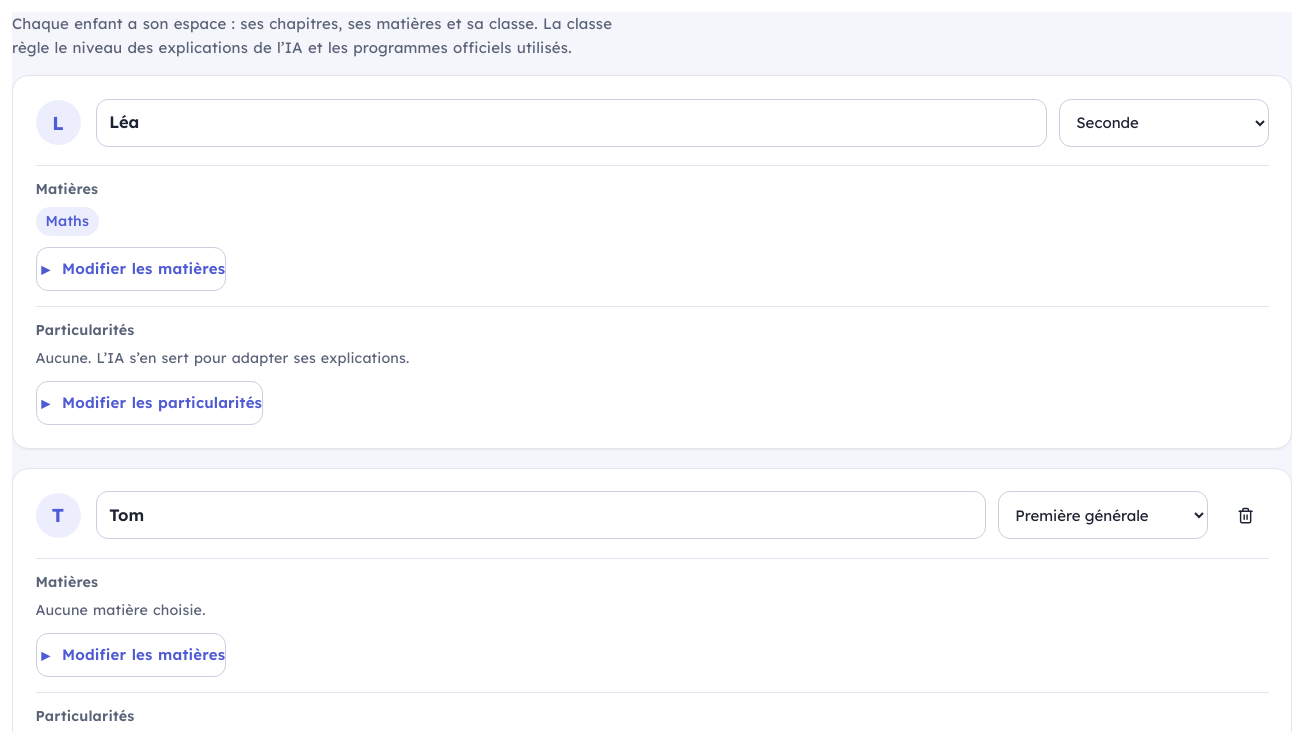
Scenario: StudentsSection › affiche l’erreur du serveur
Select "Première générale" in the dropdown with id "student-level-1": (1164, 122) x1=1058 y1=98 x2=1268 y2=146
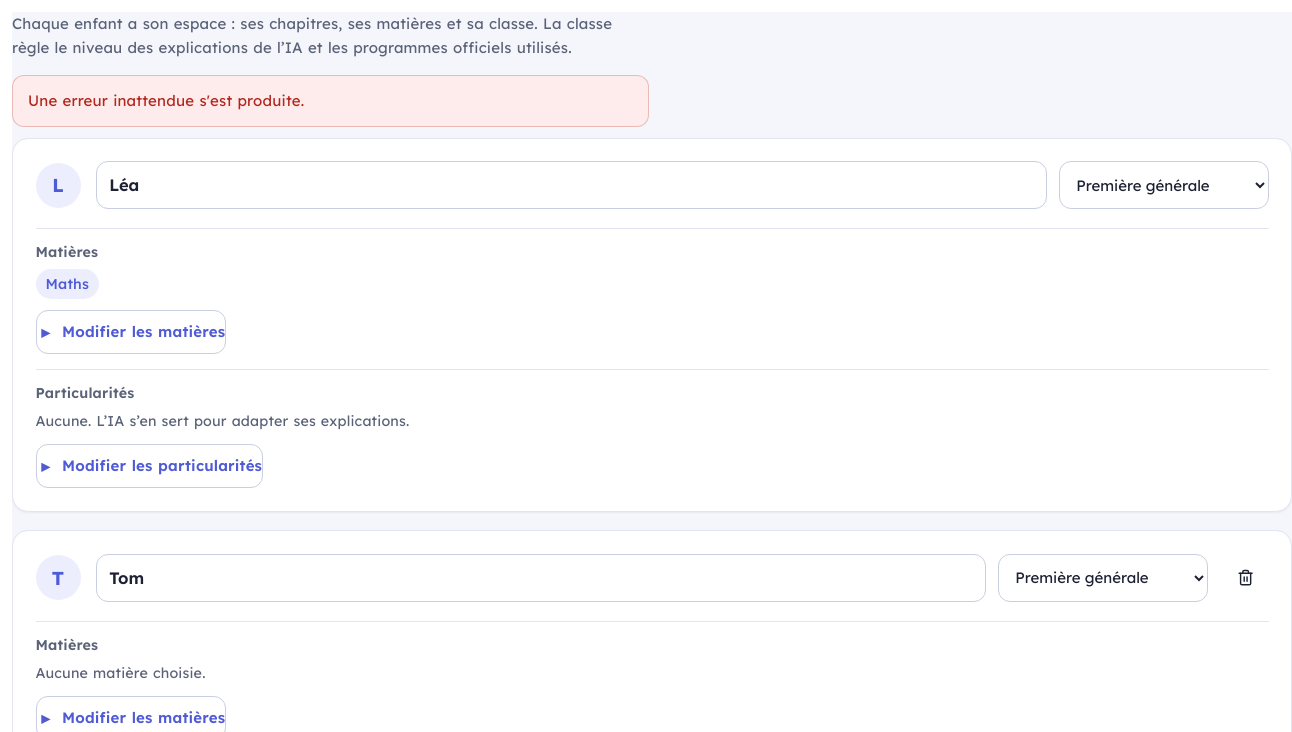
Now the message "Une erreur inattendue s'est produite." is shown, box x1=12 y1=75 x2=649 y2=126
